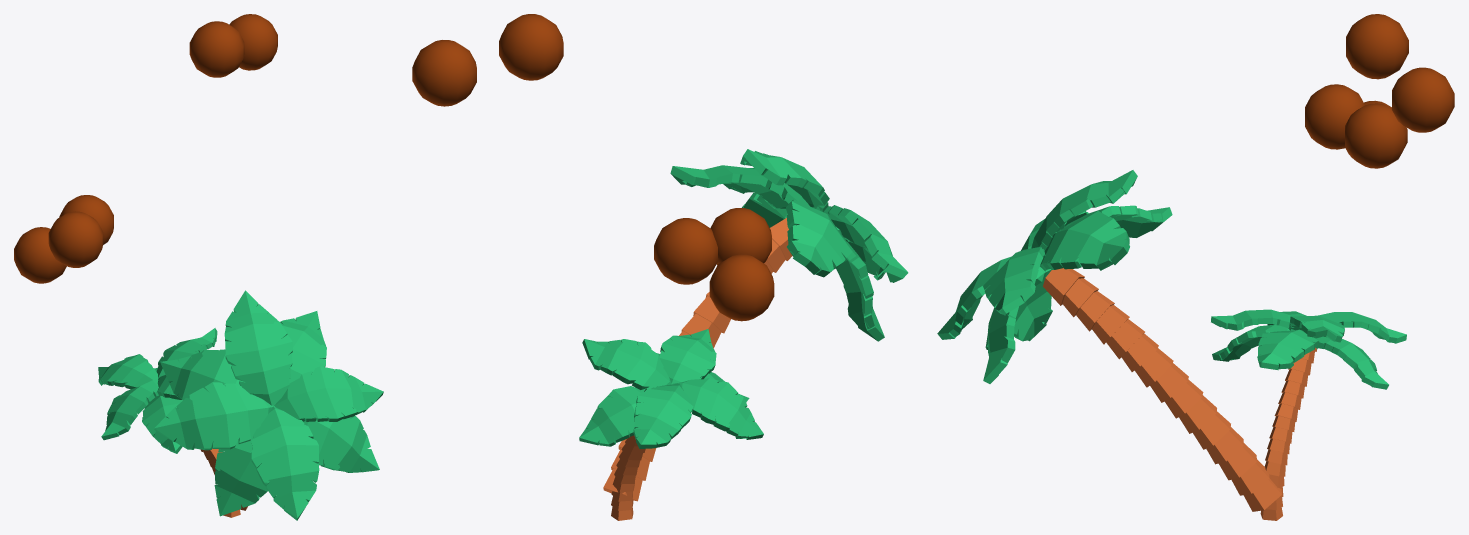
Rendered from palmeras.gltf.
3 renders of one model, left to right at view 1: azimuth 30°, elevation 25°; view 2: azimuth 150°, elevation 25°; view 3: azimuth 270°, elevation 25°, orthographic. The views are drawn at different scales.
Visible parts, largest first — view 1: palmera2Mesh, palmera1Mesh, coco1, coco4, coco5, coco2, coco3; view 2: palmera2Mesh, palmera1Mesh, coco5, coco1, coco2, coco3, coco4; view 3: palmera2Mesh, palmera1Mesh, coco2, coco1, coco3, coco4.
Boxes of the visible parts, x1,y1,x2,y2 form: palmera2Mesh: (154, 290, 383, 520); palmera1Mesh: (98, 328, 240, 517); coco1: (189, 21, 244, 77); coco4: (48, 211, 103, 267); coco5: (14, 227, 66, 283); coco2: (229, 14, 277, 70); coco3: (59, 195, 113, 244); palmera2Mesh: (603, 149, 908, 501); palmera1Mesh: (579, 329, 763, 520); coco5: (709, 254, 774, 321); coco1: (499, 14, 563, 80); coco2: (412, 40, 476, 106); coco3: (654, 218, 718, 284); coco4: (710, 208, 771, 265); palmera2Mesh: (937, 170, 1281, 511); palmera1Mesh: (1211, 309, 1406, 520); coco2: (1392, 67, 1454, 132); coco1: (1346, 14, 1408, 79); coco3: (1345, 103, 1407, 168); coco4: (1305, 84, 1364, 149).
Bounding box in the file's own units: 1.51 × 2.33 × 2.11.
Materials: 7 (2 with a texture image).
